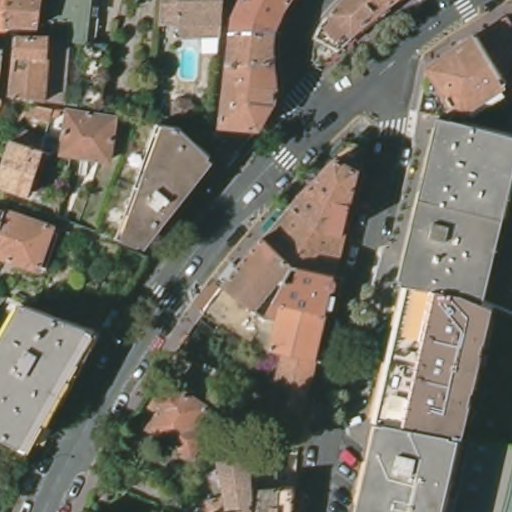pool: (172, 44, 203, 84)
